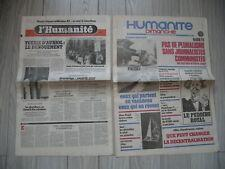paper: (16, 16, 219, 156)
